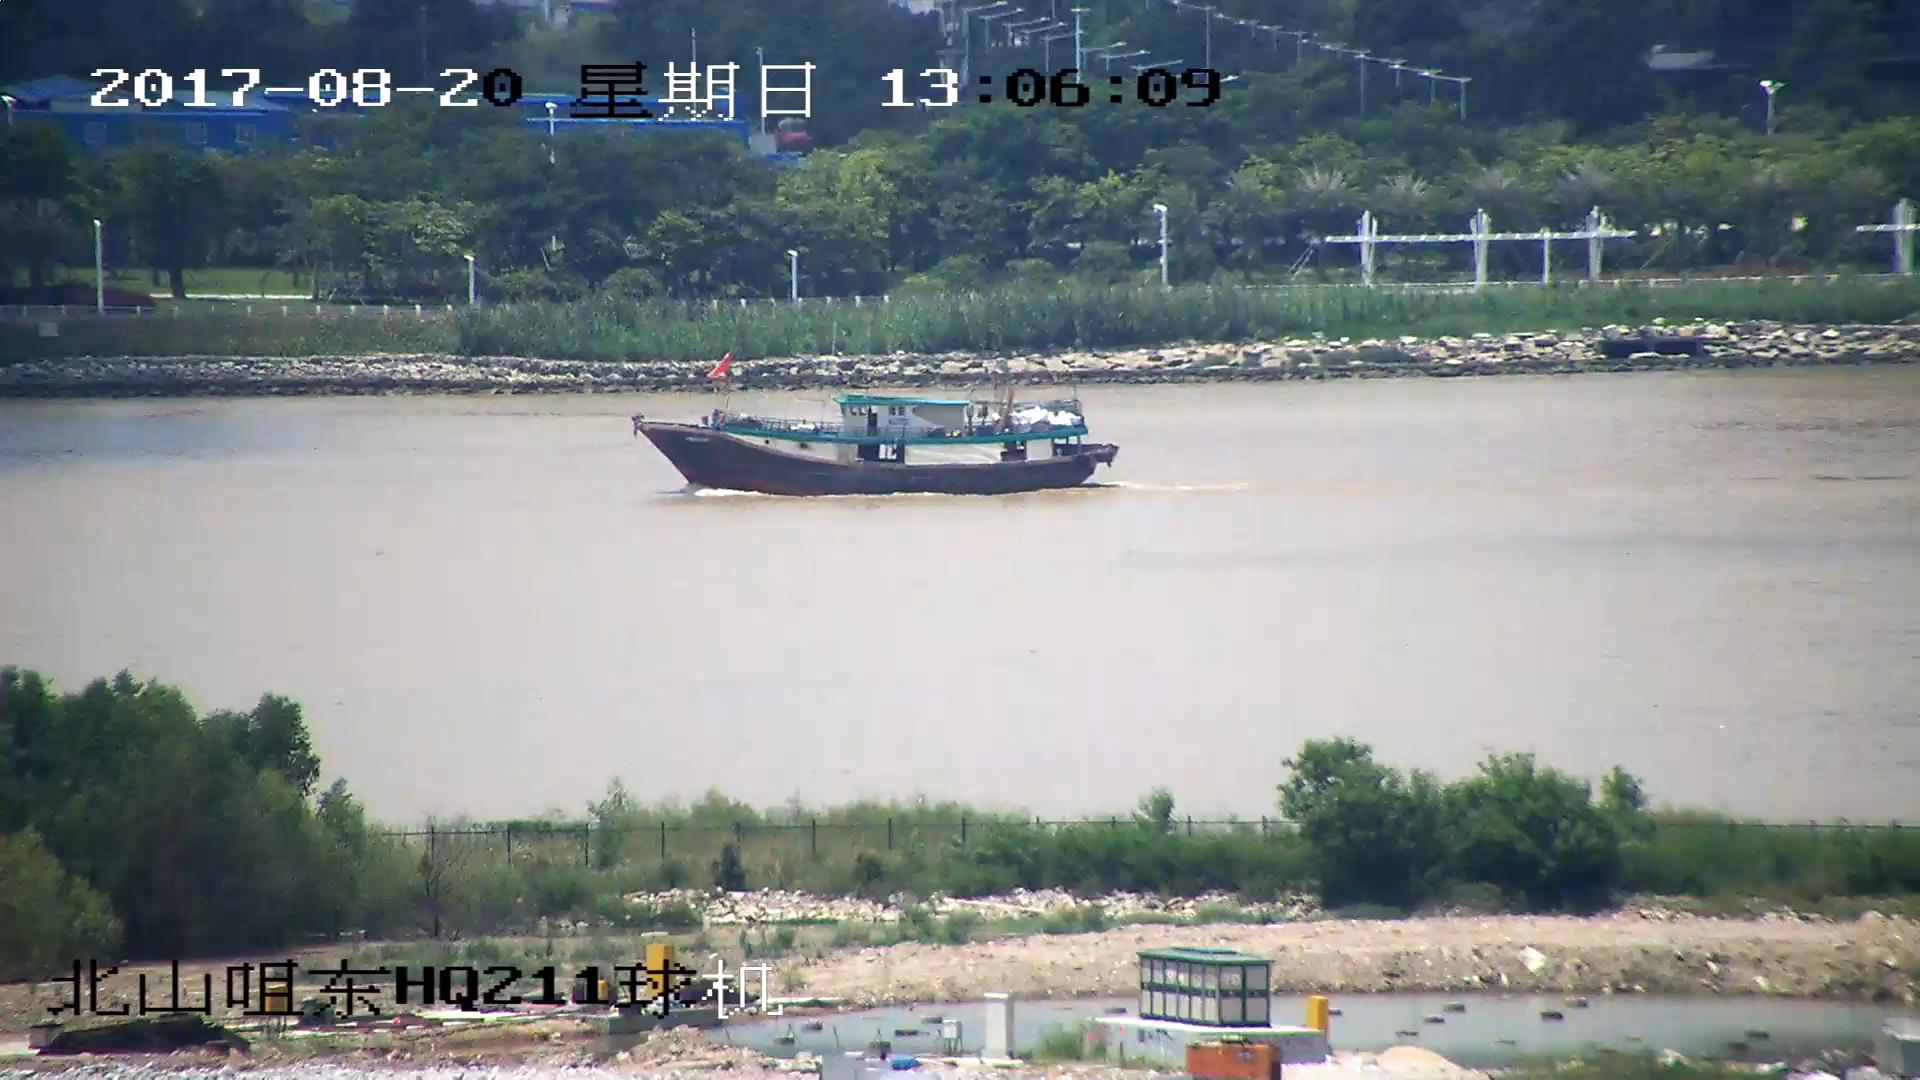fishing boat: (632, 346, 1111, 500)
